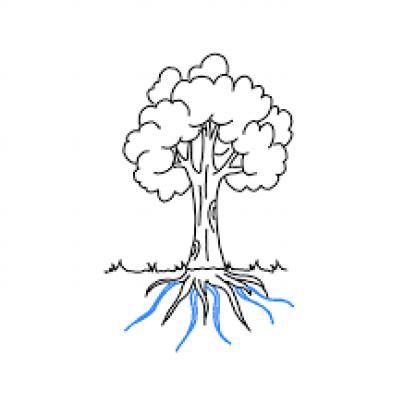branch_cut: (175, 126, 243, 190)
crown_cloud: (121, 56, 293, 202)
knot: (206, 200, 220, 233), (188, 241, 200, 259)
root_under: (147, 256, 270, 333)
trunk_bark: (188, 193, 225, 260)
